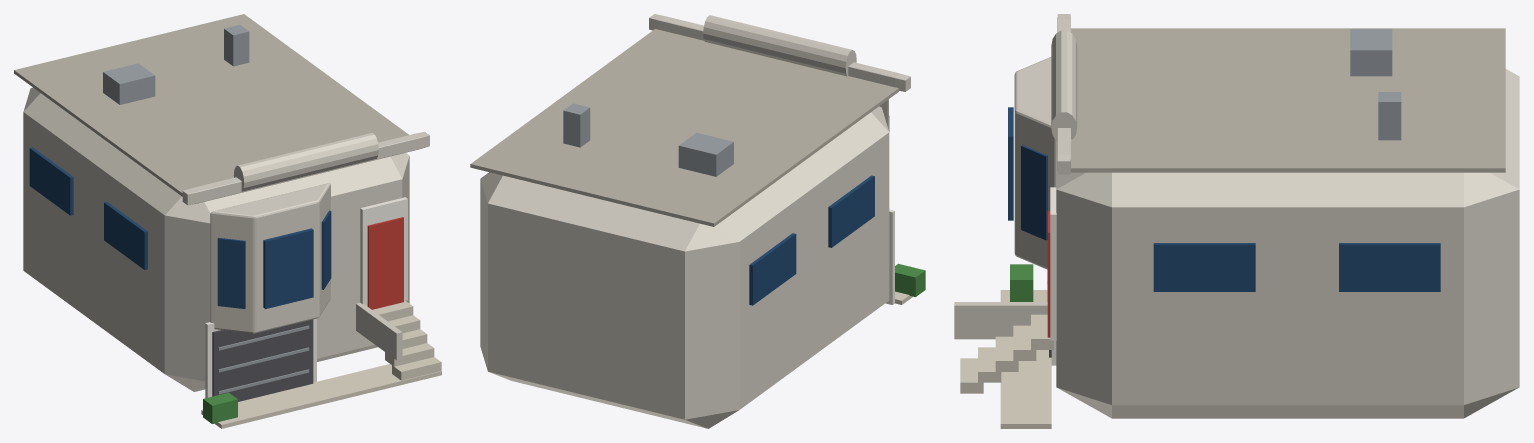
The model's file is sunset_w7_curved_bay.glb.
3 renders of one model, left to right at view 1: azimuth 30°, elevation 25°; view 2: azimuth 150°, elevation 25°; view 3: azimuth 270°, elevation 25°, orthographic. The views are drawn at different scales.
Visible parts, largest first — view 1: walls, roofslab, bay, gdoor, patio, pcurve, bw, door, pp1, bwa, dfr, sb.002 (+10 smaller); view 2: walls, roofslab, pcurve, sb.002, sb, hvac, pp1, pipe, hedge, gfr; view 3: walls, roofslab, bay, sb.001, sb.003, patio, srail, pcurve, bwa.001, hvac, pipe, dfr (+8 smaller).
Boxes of the visible parts, x1,y1,x2,y2 form: walls: [23, 87, 409, 391]; roofslab: [14, 14, 408, 196]; bay: [210, 183, 330, 333]; gdoor: [212, 319, 313, 401]; patio: [201, 364, 441, 428]; pcurve: [233, 133, 378, 191]; bw: [263, 228, 313, 308]; door: [367, 217, 403, 309]; pp1: [182, 131, 429, 205]; bwa: [217, 237, 245, 308]; dfr: [360, 197, 407, 306]; sb.002: [29, 147, 73, 215]; walls: [480, 106, 889, 428]; roofslab: [470, 29, 899, 226]; pcurve: [703, 15, 856, 76]; sb.002: [749, 233, 796, 305]; sb: [828, 175, 874, 247]; hvac: [678, 132, 733, 176]; pp1: [649, 14, 910, 91]; pipe: [563, 103, 590, 147]; hedge: [895, 263, 925, 296]; gfr: [885, 209, 894, 304]; walls: [1056, 69, 1519, 418]; roofslab: [1071, 28, 1505, 172]; bay: [1014, 57, 1056, 269]; sb.001: [1153, 243, 1255, 291]; sb.003: [1339, 243, 1440, 291]; patio: [1000, 290, 1051, 428]; srail: [954, 302, 1047, 339]; pcurve: [1051, 30, 1077, 140]; bwa.001: [1021, 145, 1047, 240]; hvac: [1350, 29, 1392, 76]; pipe: [1378, 92, 1401, 140]; dfr: [1050, 187, 1056, 340].
Size of the model in its own units: 7.8 by 7.2 by 12.2.
